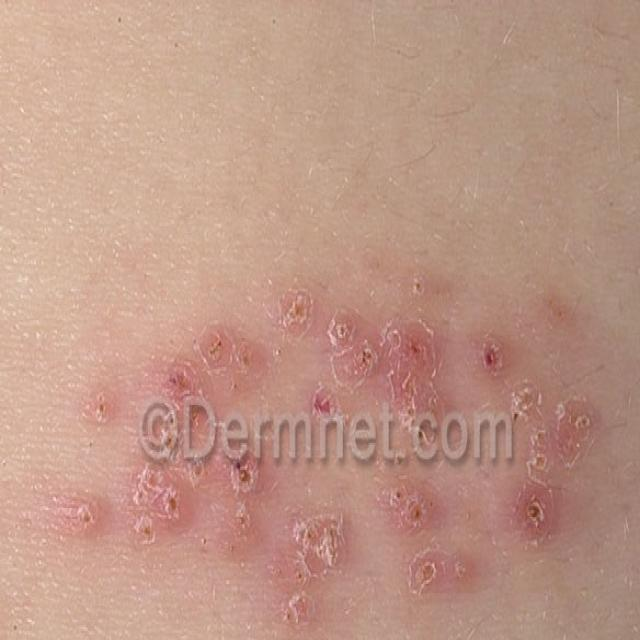Viral Infections: (70, 252, 600, 635)
